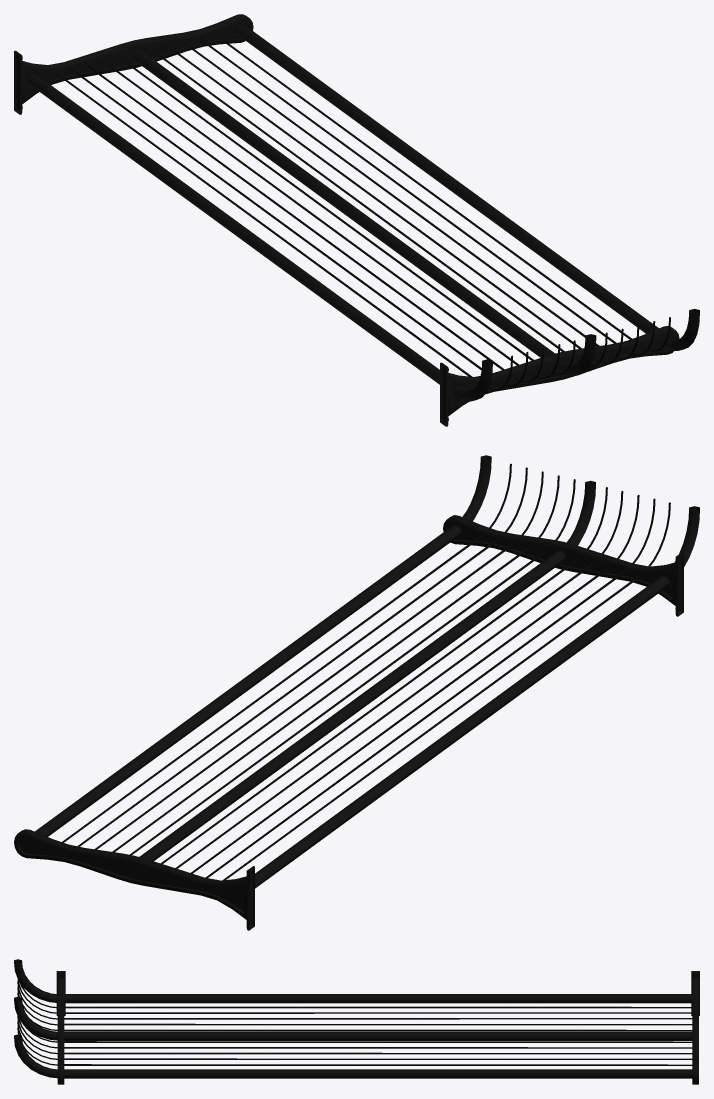
File: cP_Fence03_StraightCorner.dae
3 renders of one model, top to bottom at view 1: azimuth 30°, elevation 25°; view 2: azimuth 150°, elevation 25°; view 3: azimuth 270°, elevation 25°, orthographic. The views are drawn at different scales.
Visible parts, largest first — view 1: cP_Fence03_StraightCorner.001; view 2: cP_Fence03_StraightCorner.001; view 3: cP_Fence03_StraightCorner.001.
Part boxes in pixels (bbox=[...]): cP_Fence03_StraightCorner.001: bbox=[14, 14, 699, 426]; cP_Fence03_StraightCorner.001: bbox=[14, 455, 699, 930]; cP_Fence03_StraightCorner.001: bbox=[14, 959, 699, 1084].
Size of the model in its own units: 1.19 by 4.05 by 0.3888.
